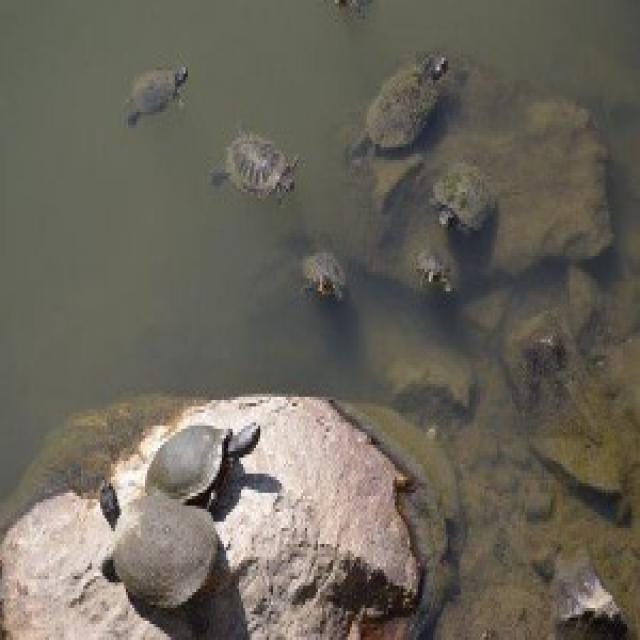Sea turtle: (90, 478, 214, 616), (349, 47, 464, 162), (218, 99, 310, 218), (151, 414, 268, 504), (117, 50, 195, 146), (426, 162, 507, 240)
